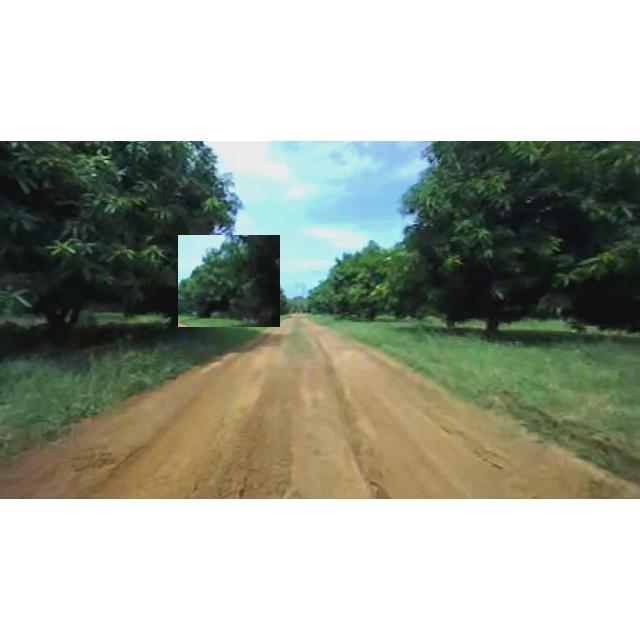tree: (0, 142, 250, 342), (396, 143, 640, 340), (178, 235, 280, 327), (338, 220, 428, 324)
